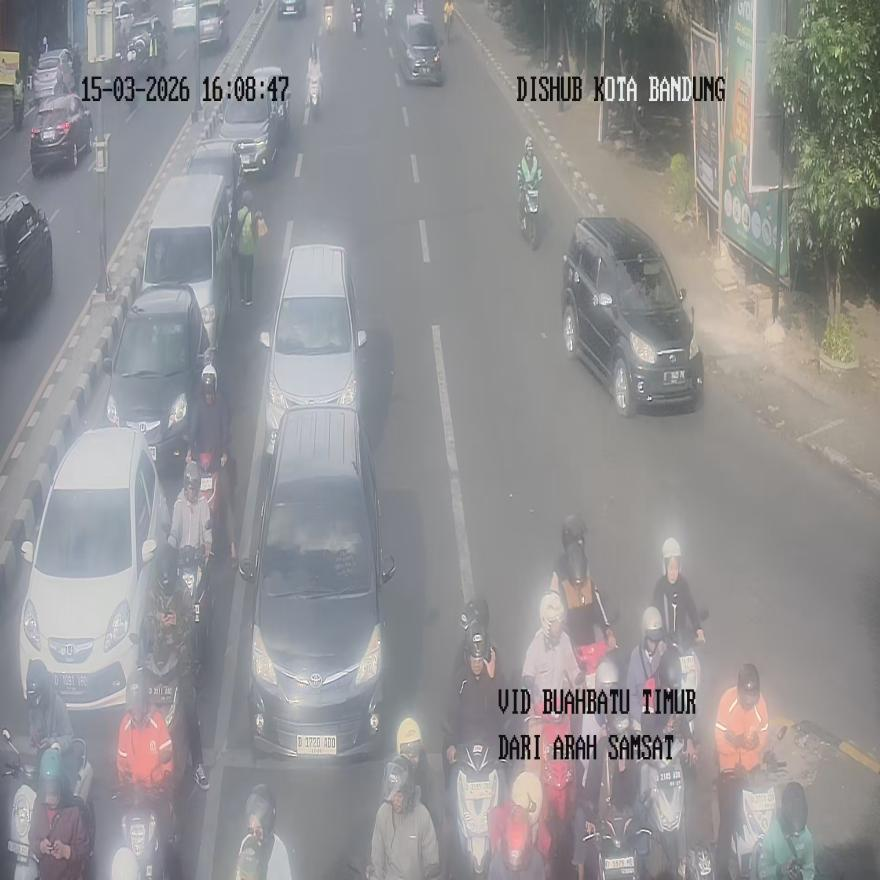Motor: (238, 406, 395, 757), (18, 425, 169, 710), (561, 216, 703, 415), (259, 244, 366, 456), (103, 283, 209, 470), (142, 174, 232, 356), (217, 68, 289, 176), (0, 192, 53, 329), (30, 94, 92, 175)
Truk: (0, 729, 94, 879), (716, 760, 780, 880), (638, 736, 686, 878), (111, 778, 177, 879), (454, 742, 500, 878), (235, 784, 292, 879), (598, 814, 652, 879), (517, 168, 540, 249), (308, 73, 320, 122), (444, 2, 453, 44), (352, 2, 363, 34), (384, 1, 394, 31), (325, 4, 334, 34)
